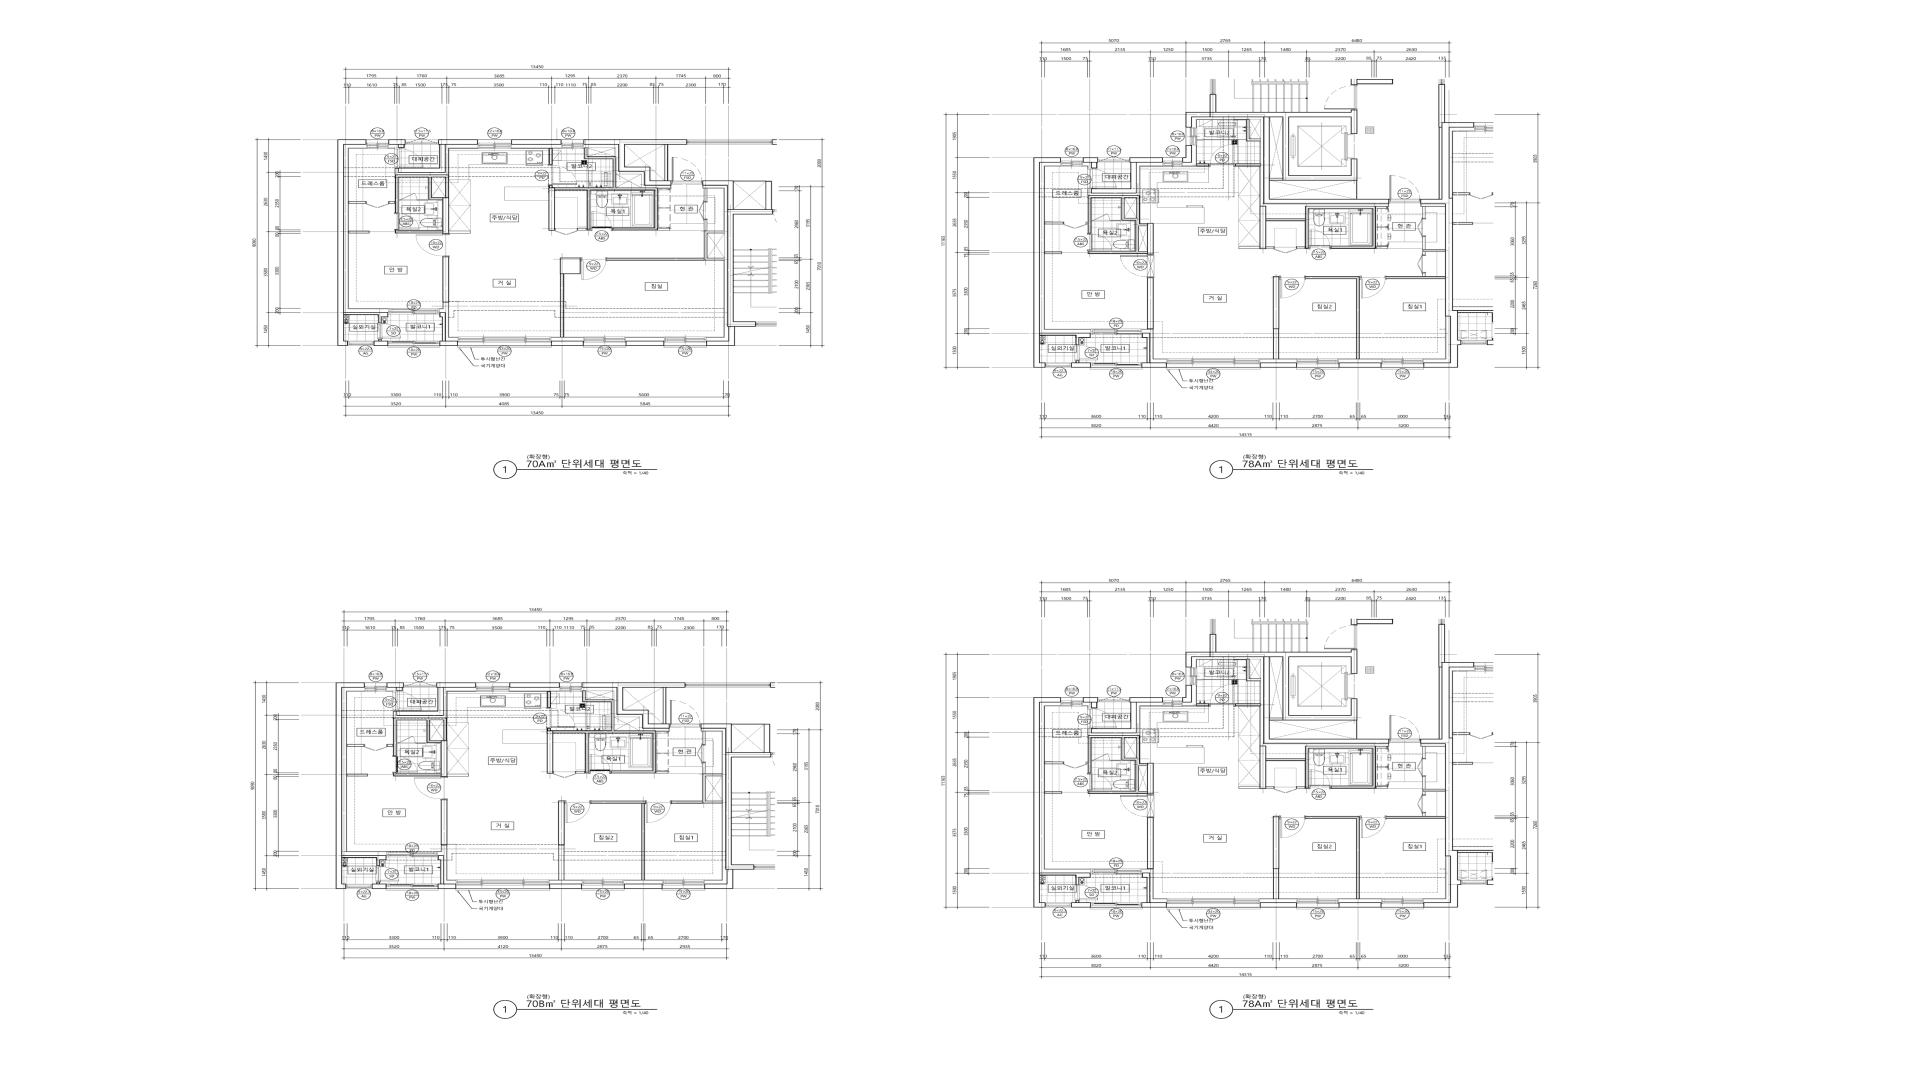door: (671, 157, 703, 183), (1389, 715, 1420, 741), (669, 700, 700, 727), (1389, 175, 1420, 202), (1324, 625, 1357, 650), (1120, 794, 1154, 818), (415, 233, 448, 257), (1324, 86, 1357, 109), (1120, 255, 1154, 277), (549, 165, 578, 186), (645, 800, 671, 823), (564, 800, 591, 823), (1360, 816, 1386, 839), (1279, 816, 1305, 839), (1209, 684, 1236, 707), (1209, 144, 1236, 166), (394, 148, 423, 167), (1088, 708, 1117, 728), (1088, 169, 1117, 189), (580, 258, 607, 280), (1360, 277, 1386, 298), (1279, 277, 1305, 298), (393, 691, 421, 711), (547, 708, 575, 728), (591, 211, 613, 231), (1308, 229, 1331, 249), (1088, 233, 1112, 252), (1308, 770, 1331, 789), (588, 754, 611, 773), (1088, 774, 1112, 791), (393, 756, 417, 773), (378, 323, 401, 339), (1076, 885, 1098, 901), (1076, 344, 1098, 360), (377, 866, 398, 882), (365, 202, 389, 208), (1063, 762, 1087, 769), (553, 771, 576, 778), (1063, 222, 1087, 228), (555, 228, 578, 235), (1274, 786, 1296, 793), (1274, 247, 1296, 253), (699, 202, 707, 220), (1418, 758, 1425, 777), (1092, 753, 1110, 761), (397, 736, 415, 744), (1418, 255, 1425, 273), (1092, 214, 1110, 222), (1418, 795, 1425, 812), (698, 745, 705, 762), (400, 193, 417, 200), (1418, 219, 1425, 236), (364, 745, 386, 750)
wall: (1185, 94, 1389, 204), (1185, 634, 1389, 744), (1386, 624, 1458, 907), (1386, 84, 1458, 368), (1192, 657, 1390, 758), (1192, 117, 1390, 219), (607, 186, 728, 342), (1034, 157, 1091, 368), (1034, 698, 1091, 907), (700, 724, 771, 889), (703, 181, 773, 345), (335, 683, 386, 889), (338, 140, 388, 345), (555, 145, 671, 231), (547, 691, 657, 774), (1040, 162, 1091, 332), (1040, 703, 1091, 873), (342, 687, 386, 856), (1259, 206, 1377, 249), (1259, 746, 1377, 789), (582, 683, 686, 729), (584, 140, 687, 186), (1305, 816, 1360, 899), (1305, 277, 1360, 359), (591, 800, 645, 880), (1088, 195, 1154, 255), (702, 729, 727, 884), (582, 687, 670, 731), (1088, 736, 1154, 794), (393, 717, 447, 777), (394, 140, 477, 175), (1091, 157, 1163, 194), (397, 683, 476, 716), (1091, 698, 1163, 733), (393, 687, 476, 717), (1088, 703, 1163, 736), (1088, 162, 1163, 195), (389, 175, 448, 214), (551, 274, 583, 342), (1424, 856, 1451, 903), (1424, 316, 1451, 363), (550, 845, 582, 884), (512, 145, 562, 165), (1142, 873, 1167, 907), (1142, 334, 1167, 368), (1142, 869, 1167, 902), (1142, 330, 1167, 363), (439, 302, 458, 342), (438, 845, 455, 884), (439, 313, 458, 345), (438, 856, 455, 889), (1273, 816, 1279, 899), (1273, 277, 1279, 359), (707, 233, 725, 258), (1423, 777, 1445, 795), (1423, 236, 1445, 255), (705, 777, 723, 800), (1420, 204, 1445, 219), (1420, 744, 1445, 758), (1147, 277, 1154, 330), (560, 257, 580, 274), (1147, 818, 1154, 869), (1183, 684, 1197, 707), (1246, 120, 1261, 141), (1246, 659, 1261, 680), (1183, 145, 1197, 166), (440, 799, 447, 845), (549, 186, 555, 231), (558, 800, 564, 845), (430, 720, 443, 742), (1350, 79, 1394, 86), (1350, 618, 1394, 625), (587, 148, 616, 157), (512, 140, 562, 145), (1125, 737, 1137, 758), (443, 257, 448, 302), (1125, 198, 1137, 218), (1338, 902, 1381, 907), (1338, 363, 1381, 368), (624, 884, 662, 889), (509, 687, 559, 691), (509, 683, 559, 687), (394, 229, 443, 233), (1083, 157, 1098, 169), (1261, 363, 1296, 368), (443, 198, 448, 233), (1261, 902, 1296, 907), (1183, 684, 1192, 703), (550, 884, 582, 889), (1338, 899, 1381, 903), (1083, 698, 1098, 708), (1338, 359, 1381, 363), (1183, 145, 1192, 162), (1071, 360, 1091, 368), (624, 880, 662, 884), (626, 338, 663, 342), (626, 342, 663, 345), (1261, 359, 1296, 363), (386, 683, 404, 691), (1071, 901, 1091, 907), (389, 140, 405, 148), (671, 800, 703, 804), (551, 342, 583, 345), (663, 687, 666, 724), (372, 882, 386, 889), (373, 339, 388, 345), (665, 145, 667, 181), (1261, 899, 1296, 902), (547, 691, 551, 708), (1236, 164, 1261, 166), (1236, 704, 1261, 707), (448, 231, 471, 233), (1238, 247, 1259, 249), (1238, 786, 1259, 789), (447, 774, 468, 777), (348, 231, 369, 233), (1083, 162, 1091, 169), (348, 202, 365, 204), (733, 181, 766, 182), (1083, 703, 1091, 708), (386, 687, 397, 691), (732, 724, 764, 725), (389, 145, 398, 149), (1196, 164, 1209, 166), (1270, 717, 1283, 720), (1196, 704, 1209, 707), (1270, 178, 1283, 181), (1377, 786, 1387, 789), (1377, 247, 1387, 249), (1296, 247, 1305, 249), (1296, 786, 1305, 789), (1266, 247, 1274, 249), (1266, 786, 1274, 789), (386, 744, 393, 746), (657, 771, 669, 773), (1110, 220, 1121, 222), (417, 199, 427, 200), (1110, 760, 1121, 761), (415, 742, 426, 744), (576, 771, 585, 773), (1423, 812, 1425, 816), (1423, 273, 1425, 277), (1087, 762, 1088, 765), (1087, 222, 1088, 224), (1357, 720, 1357, 738), (1357, 181, 1357, 199)
window: (455, 880, 550, 890), (1166, 899, 1261, 910), (1166, 359, 1261, 369), (458, 338, 551, 348), (1381, 898, 1424, 910), (1091, 869, 1142, 878), (583, 338, 626, 348), (663, 338, 707, 348), (1381, 359, 1424, 369), (582, 880, 624, 890), (662, 880, 704, 890), (1296, 899, 1338, 910), (1296, 359, 1338, 369), (1091, 902, 1142, 910), (1091, 330, 1142, 338), (388, 342, 440, 348), (1091, 363, 1142, 369), (477, 140, 512, 149), (388, 309, 439, 314), (386, 885, 438, 890), (386, 852, 438, 857), (476, 683, 509, 691), (405, 138, 438, 145), (1098, 696, 1130, 703), (367, 140, 389, 149), (1060, 698, 1083, 707), (562, 140, 584, 149), (1060, 157, 1083, 166), (1185, 667, 1197, 684), (1185, 128, 1197, 145), (1163, 698, 1183, 707), (1163, 157, 1183, 166), (559, 683, 582, 691), (364, 683, 386, 691), (404, 682, 436, 687), (1098, 157, 1130, 162), (1046, 363, 1071, 368), (345, 885, 372, 889), (348, 342, 373, 345), (1046, 903, 1071, 907)
